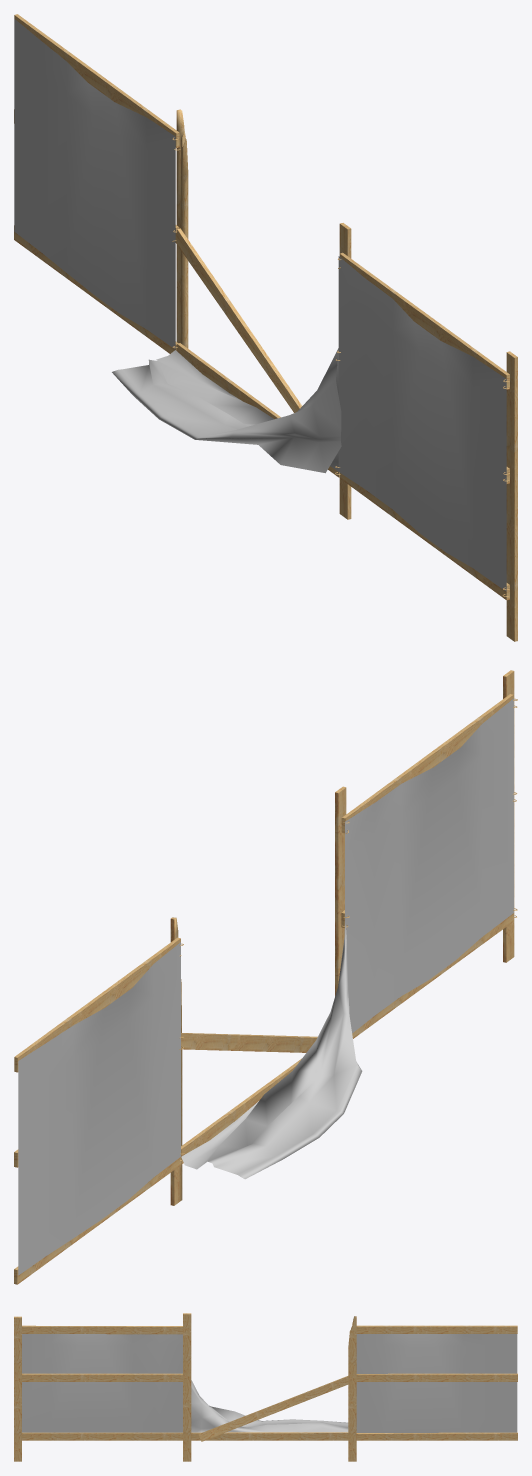
The model's file is SafetyNet_Plastic_Damaged.FBX.
3 renders of one model, top to bottom at view 1: azimuth 30°, elevation 25°; view 2: azimuth 150°, elevation 25°; view 3: azimuth 270°, elevation 25°, orthographic. The views are drawn at different scales.
Parts seen in each view (by area): view 1: SafetyNet_Plastic_Damaged; view 2: SafetyNet_Plastic_Damaged; view 3: SafetyNet_Plastic_Damaged.
Boxes of the visible parts, x1,y1,x2,y2 form: SafetyNet_Plastic_Damaged: (14,14,517,641); SafetyNet_Plastic_Damaged: (14,670,517,1284); SafetyNet_Plastic_Damaged: (14,1313,517,1461).
Bounding box in the file's own units: 24.59 × 78.74 × 244.
